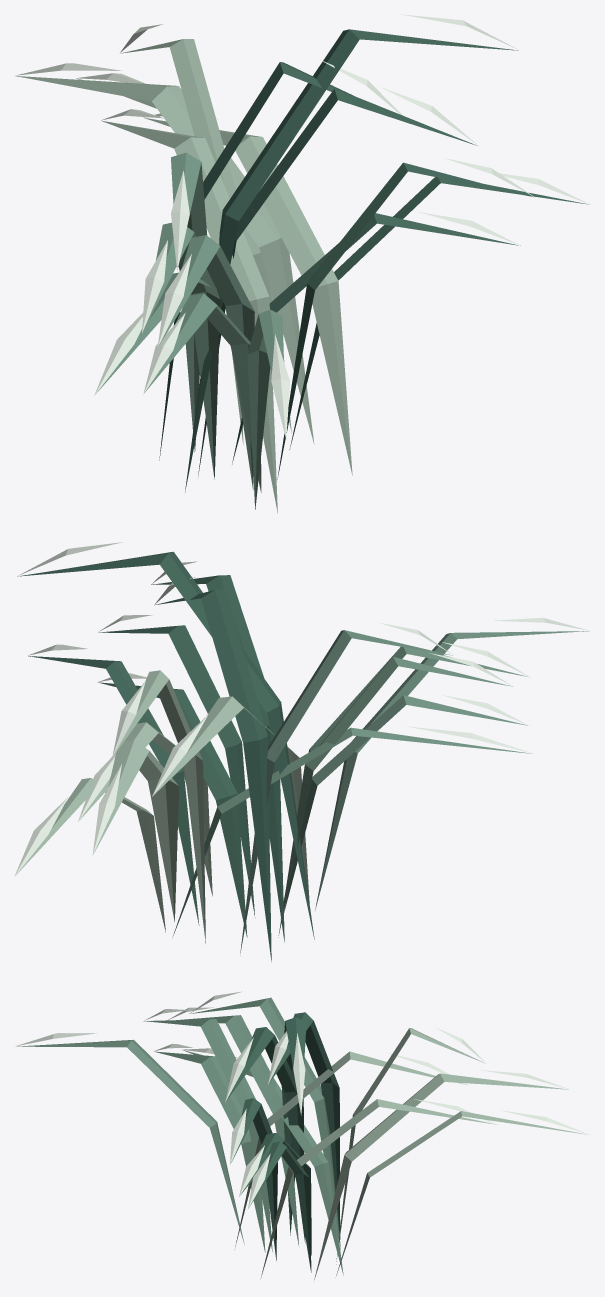
File: FROST_GRASS.lo.glb
The picture shows the model from 3 angles, top to bottom: view 1: azimuth 30°, elevation 25°; view 2: azimuth 150°, elevation 25°; view 3: azimuth 270°, elevation 25°; orthographic projection. The views are drawn at different scales.
Parts seen in each view (by area): view 1: FROST_GRASS; view 2: FROST_GRASS; view 3: FROST_GRASS.
Part boxes in pixels (x1=…): FROST_GRASS: x1=15, y1=14, x2=590, y2=513; FROST_GRASS: x1=14, y1=542, x2=589, y2=961; FROST_GRASS: x1=16, y1=991, x2=589, y2=1279.
Size of the model in its own units: 0.4321 by 0.3176 by 0.6084.
1 material, 1 textured.
